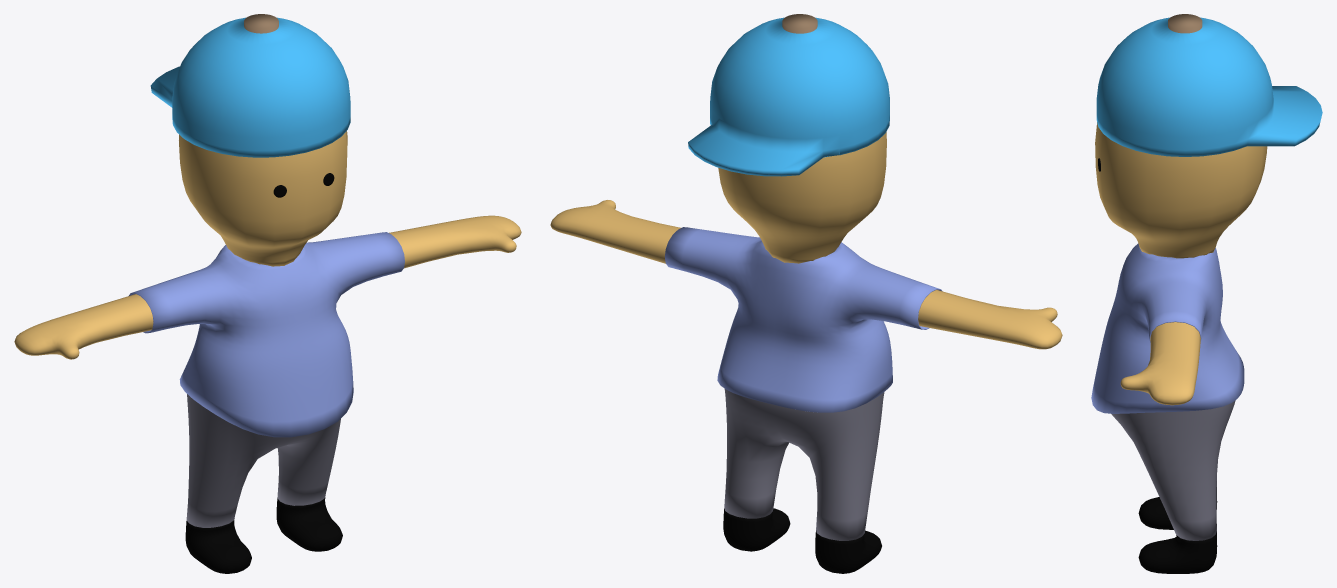
File: char_grow.glb
3 renders of one model, left to right at view 1: azimuth 30°, elevation 25°; view 2: azimuth 150°, elevation 25°; view 3: azimuth 270°, elevation 25°, orthographic.
Parts seen in each view (by area): view 1: badan; view 2: badan; view 3: badan.
Part boxes in pixels (x1,y1,x2,y2): badan: (14,14,521,573); badan: (550,14,1062,573); badan: (1091,14,1322,573).
Size of the model in its own units: 7.48 by 7.6 by 3.03.
